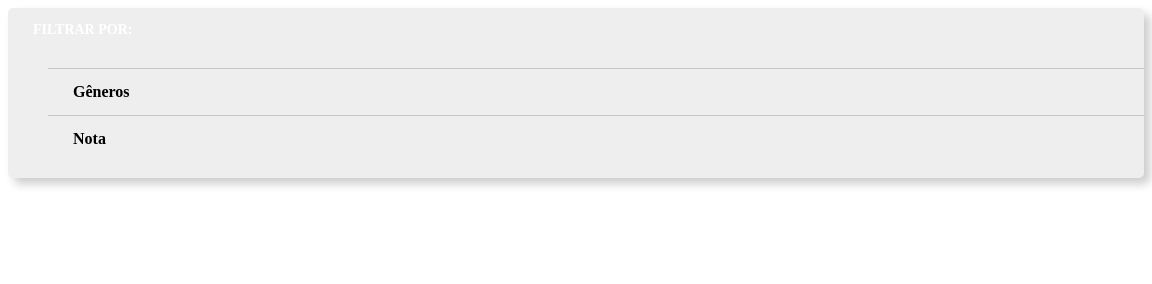
Test: Barra lateral de filtros › abre um acordeão por vez e fecha ao clicar de novo
The image size is (1152, 284).
What coordinates should you click on to do the following:
click the button "Gêneros"
I would click on:
 (101, 92)
Its box is x1=48 y1=68 x2=1144 y2=115.
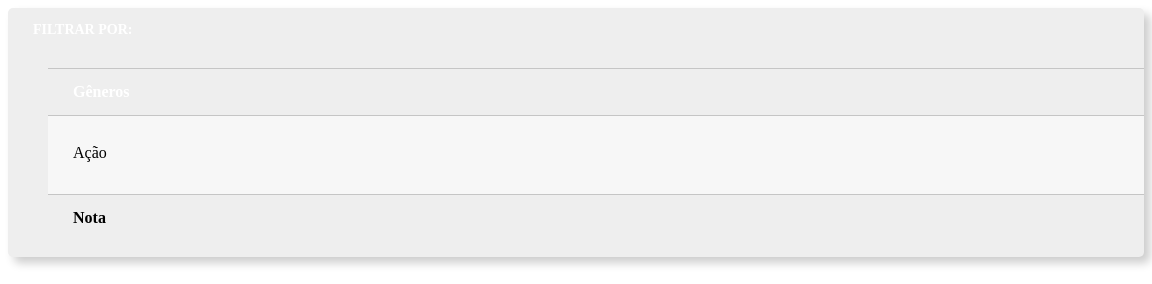
Now the text "Ação" is shown, box x1=73 y1=144 x2=107 y2=161
What coordinates should you click on to do the following:
click the button "Nota"
I would click on:
 (89, 218)
Its box is x1=48 y1=194 x2=1144 y2=241.
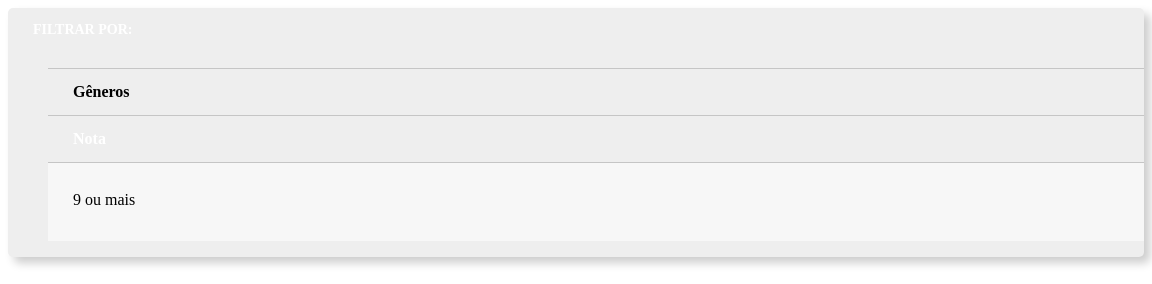
Now the text "Ação" is gone
Now the text "9 ou mais" is shown, box x1=73 y1=191 x2=135 y2=208
What coordinates should you click on to do the following:
click the button "Nota"
I would click on:
 (89, 138)
Its box is x1=48 y1=115 x2=1144 y2=162.
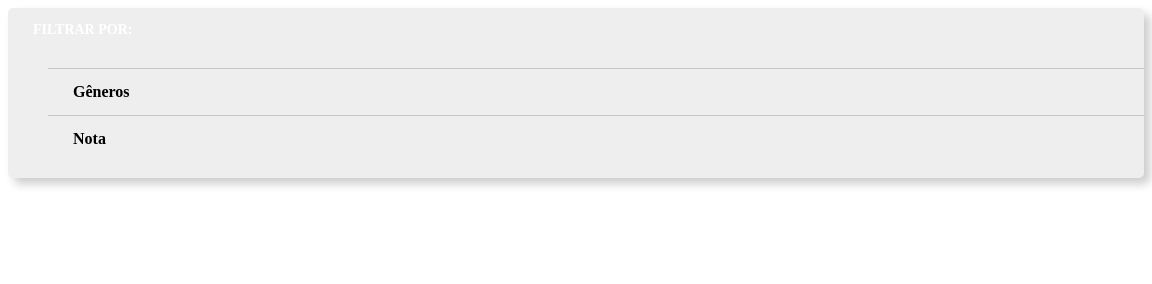
Now the text "9 ou mais" is gone
